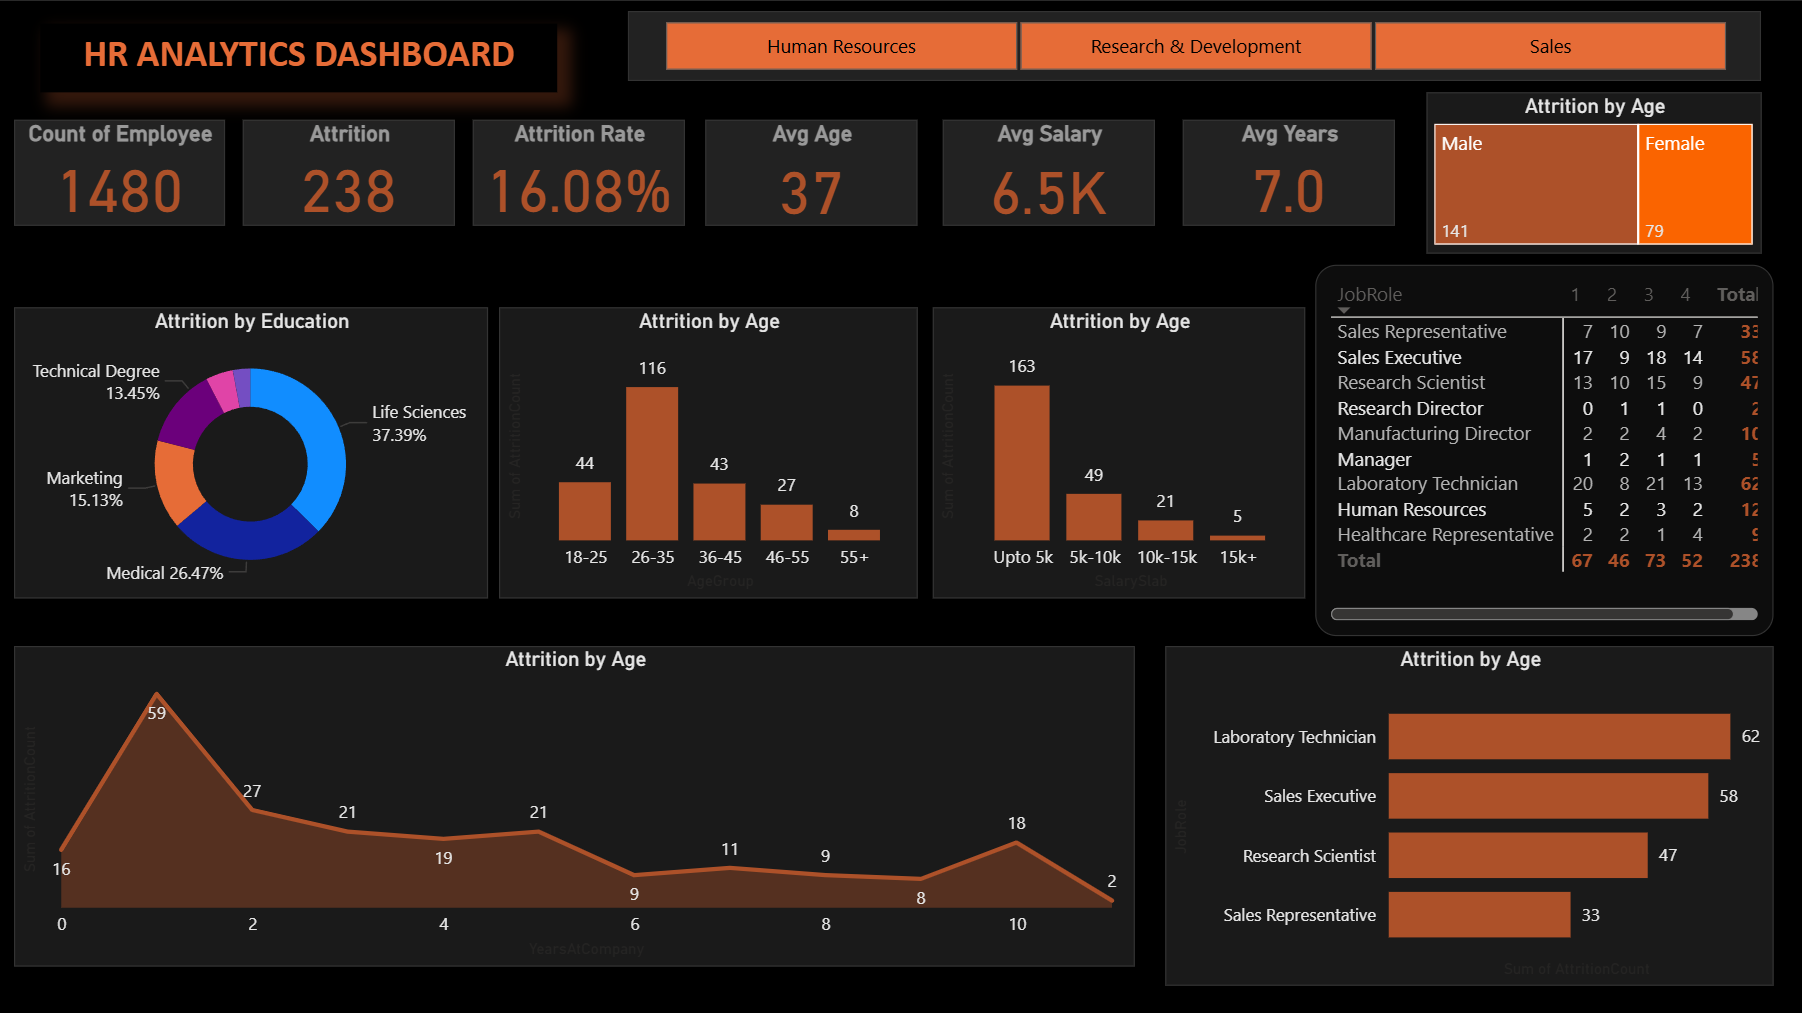

The page's visual inventory and layout, read from the dashboard file:
{"tool":"powerbi","page":{"name":"Page 1","canvas":[1280,720],"ordinal":0},"visuals":[{"type":"card","title":"Count of Employee","fields":{"Values":["HR_Analytics.EmpID"]},"box":[10.6,84.2,149.7,75.3],"z":0},{"type":"card","title":"Attrition","fields":{"Values":["HR_Analytics.AttritionCount"]},"box":[172.8,84.2,150.6,75.3],"z":1000},{"type":"card","title":"Attrition Rate","fields":{"Values":["HR_Analytics.AttritionRate"]},"box":[335.8,84.2,150.6,75.3],"z":2000},{"type":"card","title":"Avg Age","fields":{"Values":["HR_Analytics.Age"]},"box":[500.6,84.2,150.6,75.3],"z":3000},{"type":"card","title":"Avg Salary","fields":{"Values":["HR_Analytics.MonthlyIncome"]},"box":[668.9,84.2,150.6,75.3],"z":4000},{"type":"card","title":"Avg Years","fields":{"Values":["HR_Analytics.YearsAtCompany"]},"box":[839,84.2,150.6,75.3],"z":5000},{"type":"donutChart","title":"Attrition by Education","fields":{"Category":["HR_Analytics.EducationField"],"Y":["HR_Analytics.AttritionCount"]},"box":[10.6,217.1,335.8,206.4],"z":6000},{"type":"clusteredColumnChart","title":"Attrition by Age","fields":{"Category":["HR_Analytics.AgeGroup","HR_Analytics.EducationField"],"Y":["HR_Analytics.AttritionCount"]},"box":[354.4,217.1,296.8,206.4],"z":7000},{"type":"pivotTable","fields":{"Rows":["HR_Analytics.JobRole"],"Columns":["HR_Analytics.JobSatisfaction"],"Values":["HR_Analytics.AttritionCount"]},"box":[932.9,186.9,325.1,263.1],"z":8000},{"type":"columnChart","title":"Attrition by Age","fields":{"Category":["HR_Analytics.SalarySlab"],"Y":["HR_Analytics.AttritionCount"]},"box":[661.8,217.1,264,206.4],"z":9000},{"type":"clusteredBarChart","title":"Attrition by Age","fields":{"Category":["HR_Analytics.JobRole","HR_Analytics.AgeGroup","HR_Analytics.EducationField"],"Y":["HR_Analytics.AttritionCount"]},"box":[826.6,457.1,431.5,241],"z":10000},{"type":"areaChart","title":"Attrition by Age","fields":{"Category":["HR_Analytics.YearsAtCompany"],"Y":["HR_Analytics.AttritionCount"]},"box":[10.6,457.1,794.7,226.8],"z":11000},{"type":"treemap","title":"Attrition by Age","fields":{"Group":["HR_Analytics.Gender"],"Values":["HR_Analytics.AttritionCount"]},"box":[1011.7,64.7,237.4,114.3],"z":12000},{"type":"slicer","fields":{"Values":["HR_Analytics.Department"]},"box":[445.6,7.1,803.5,49.6],"z":13000},{"type":"textbox","box":[29.2,15.9,366.8,48.7],"z":14000}]}

Visuals, with their boxes in screenshot pixels (x1, y1, x2, y2), scaled from the page's 1280x720 canvas onto the 1802x1013 screenshot:
"Count of Employee" card: (15, 118, 226, 224)
"Attrition" card: (243, 118, 455, 224)
"Attrition Rate" card: (473, 118, 685, 224)
"Avg Age" card: (705, 118, 917, 224)
"Avg Salary" card: (942, 118, 1154, 224)
"Avg Years" card: (1181, 118, 1393, 224)
"Attrition by Education" donutChart: (15, 305, 488, 596)
"Attrition by Age" clusteredColumnChart: (499, 305, 917, 596)
pivotTable - HR_Analytics.JobRole x HR_Analytics.JobSatisfaction: (1313, 263, 1771, 633)
"Attrition by Age" columnChart: (932, 305, 1303, 596)
"Attrition by Age" clusteredBarChart: (1164, 643, 1771, 982)
"Attrition by Age" areaChart: (15, 643, 1134, 962)
"Attrition by Age" treemap: (1424, 91, 1758, 252)
slicer - HR_Analytics.Department: (627, 10, 1758, 80)
textbox: (41, 22, 557, 91)
